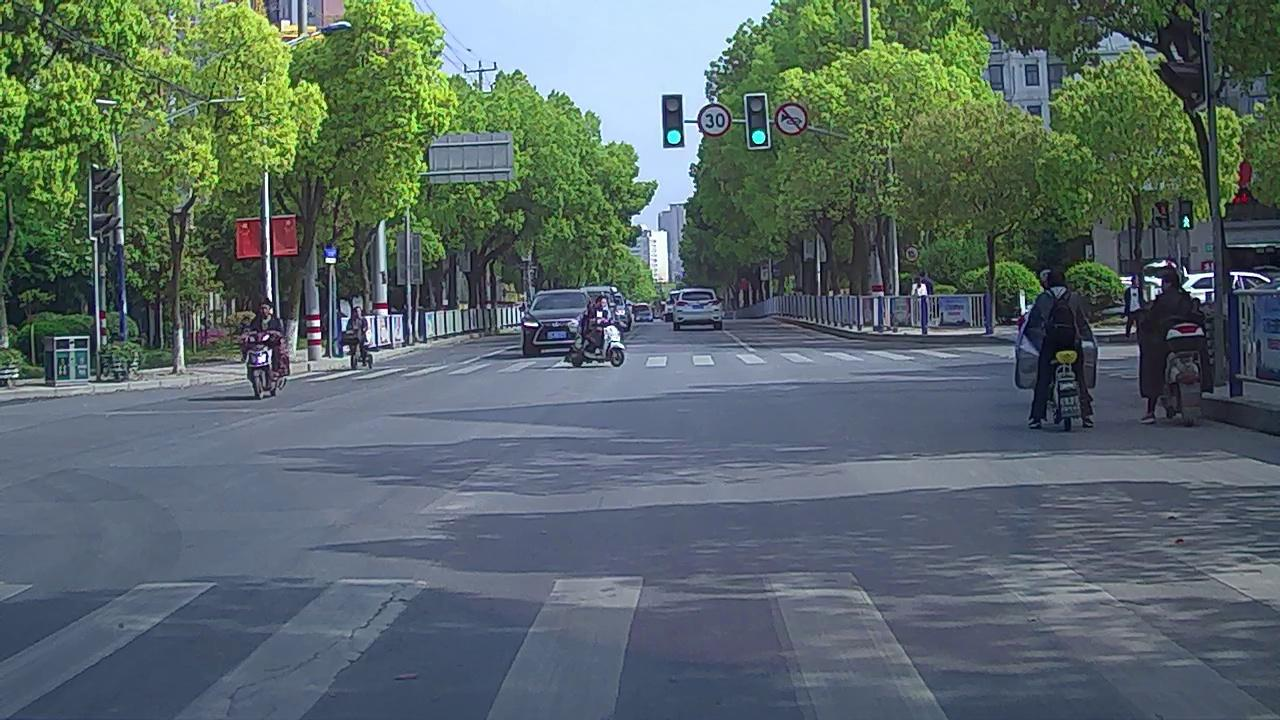traffic_light: (745, 94, 769, 148), (662, 92, 683, 145)
